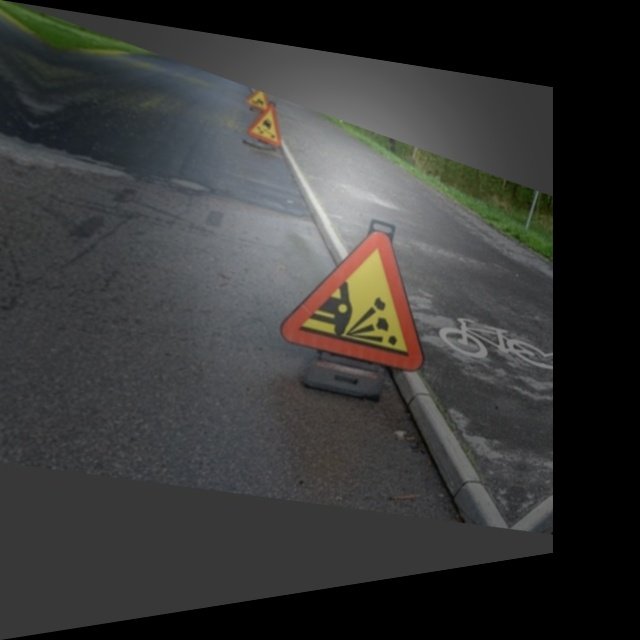Loose_Gravel: (288, 207, 443, 373)
